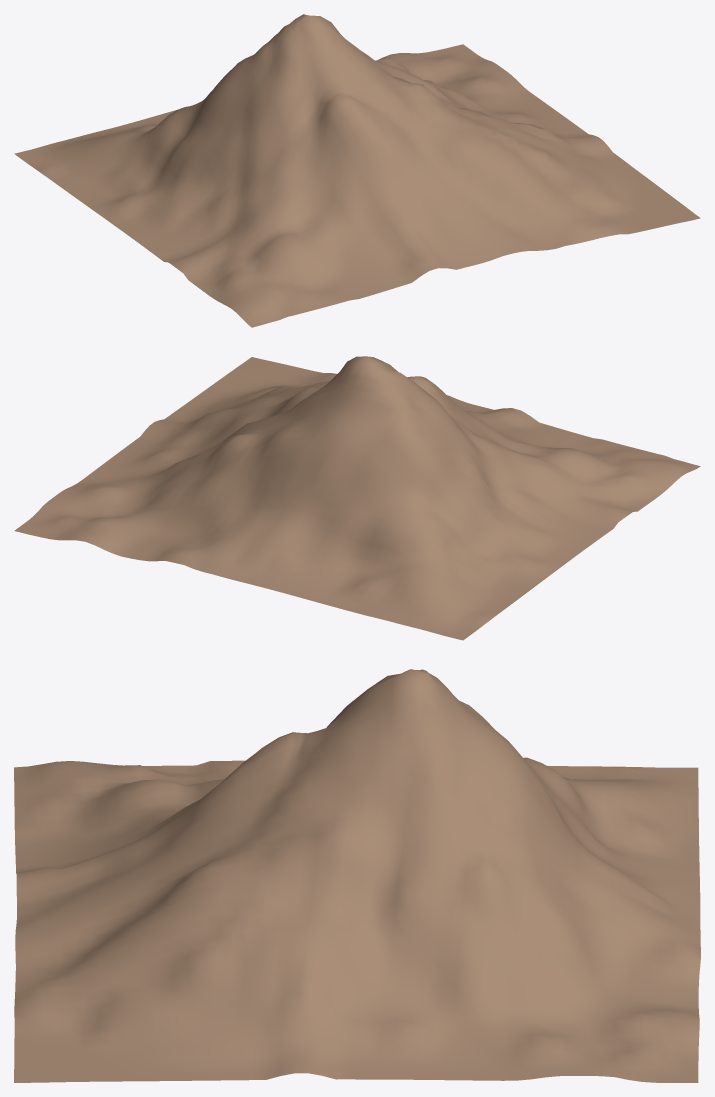
The model's file is mountain1.fbx.
3 renders of one model, top to bottom at view 1: azimuth 30°, elevation 25°; view 2: azimuth 150°, elevation 25°; view 3: azimuth 270°, elevation 25°, orthographic. The views are drawn at different scales.
Visible parts, largest first — view 1: pPlane1; view 2: pPlane1; view 3: pPlane1.
Part boxes in pixels (bbox=[...]): pPlane1: bbox=[14, 14, 700, 327]; pPlane1: bbox=[14, 356, 700, 640]; pPlane1: bbox=[14, 669, 700, 1082].
Size of the model in its own units: 10.57 by 3.68 by 9.73.
